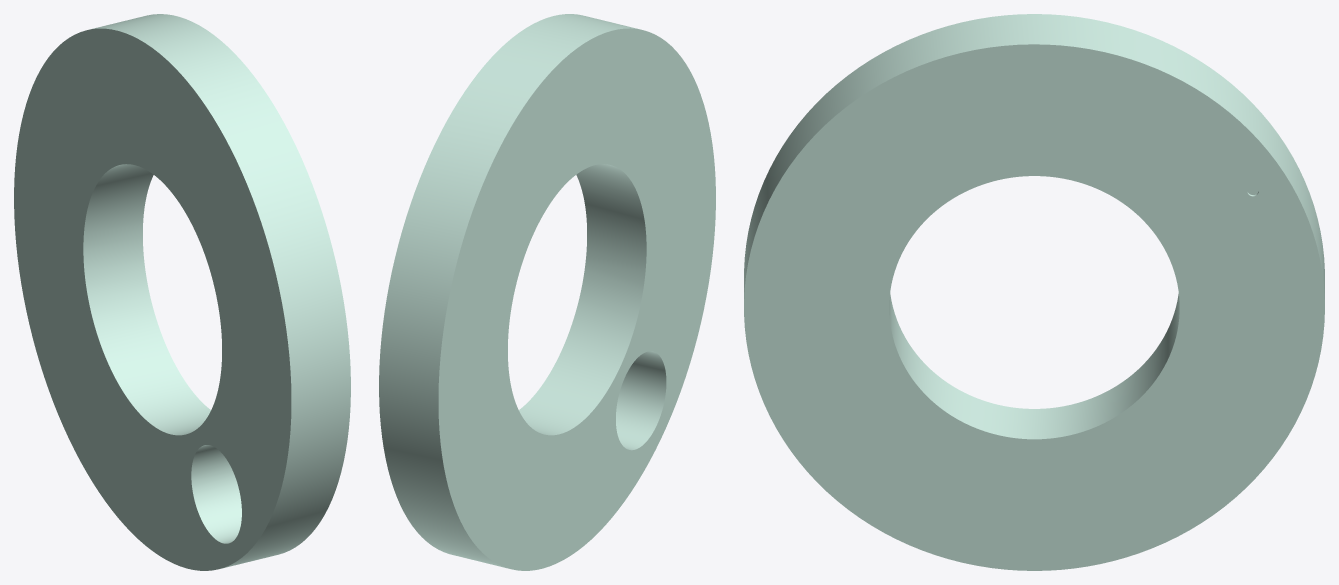
3 renders of one model, left to right at view 1: azimuth 30°, elevation 25°; view 2: azimuth 150°, elevation 25°; view 3: azimuth 270°, elevation 25°, orthographic. The views are drawn at different scales.
Visible parts, largest first — view 1: Renderer Node; view 2: Renderer Node; view 3: Renderer Node.
Part boxes in pixels (x1,y1,x2,y2): Renderer Node: (14,14,350,570); Renderer Node: (379,14,715,570); Renderer Node: (744,14,1324,570).
Bounding box in the file's own units: 0.1875 × 1.52 × 1.52.
